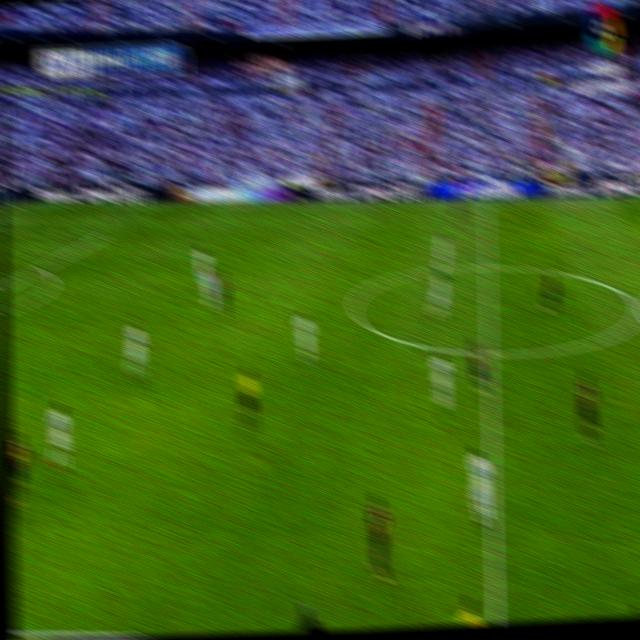bigarea_bottom_outter: (34, 259, 46, 276)
halfcircle_bottom: (481, 338, 497, 365)
halfcircle_top: (480, 254, 495, 276)
midline_top_intersection: (479, 196, 492, 212)
